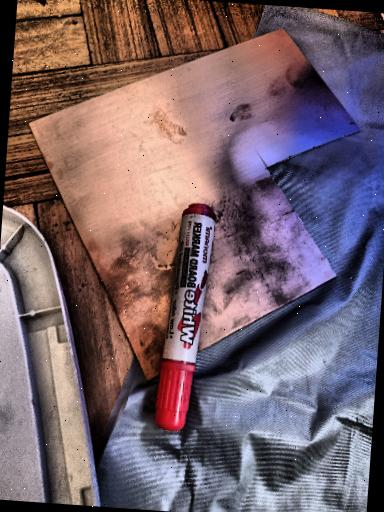marcador rojo: (155, 203, 215, 430)
